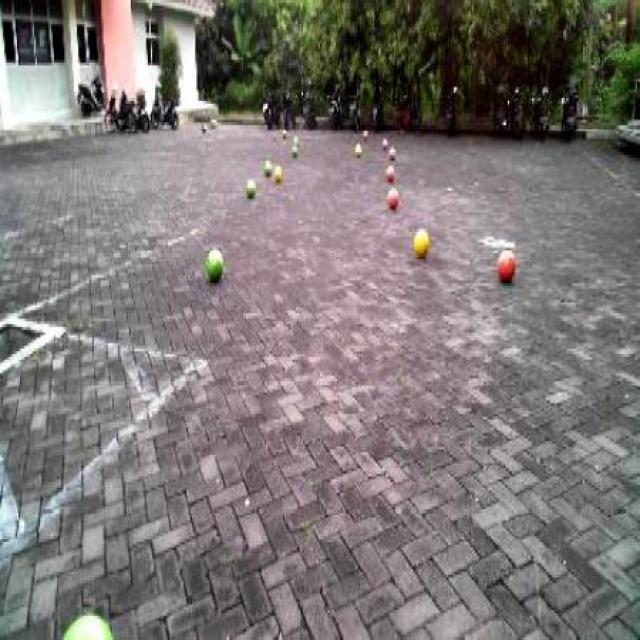buoy: (50, 599, 124, 634), (197, 235, 228, 291), (489, 234, 521, 287), (406, 218, 436, 270), (381, 180, 407, 210), (241, 169, 261, 204), (270, 158, 284, 188), (379, 158, 396, 182)
